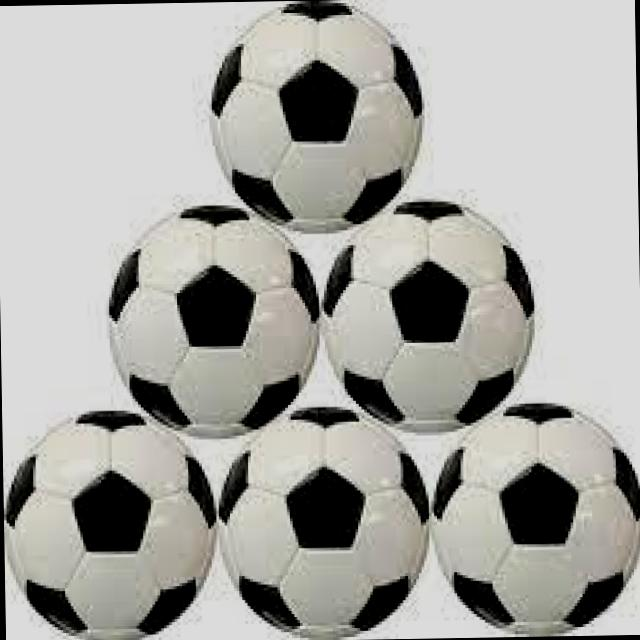Soccer Ball: (210, 378, 441, 640), (1, 393, 217, 640), (110, 198, 312, 428), (209, 0, 414, 225), (442, 421, 640, 637), (358, 236, 499, 370)
